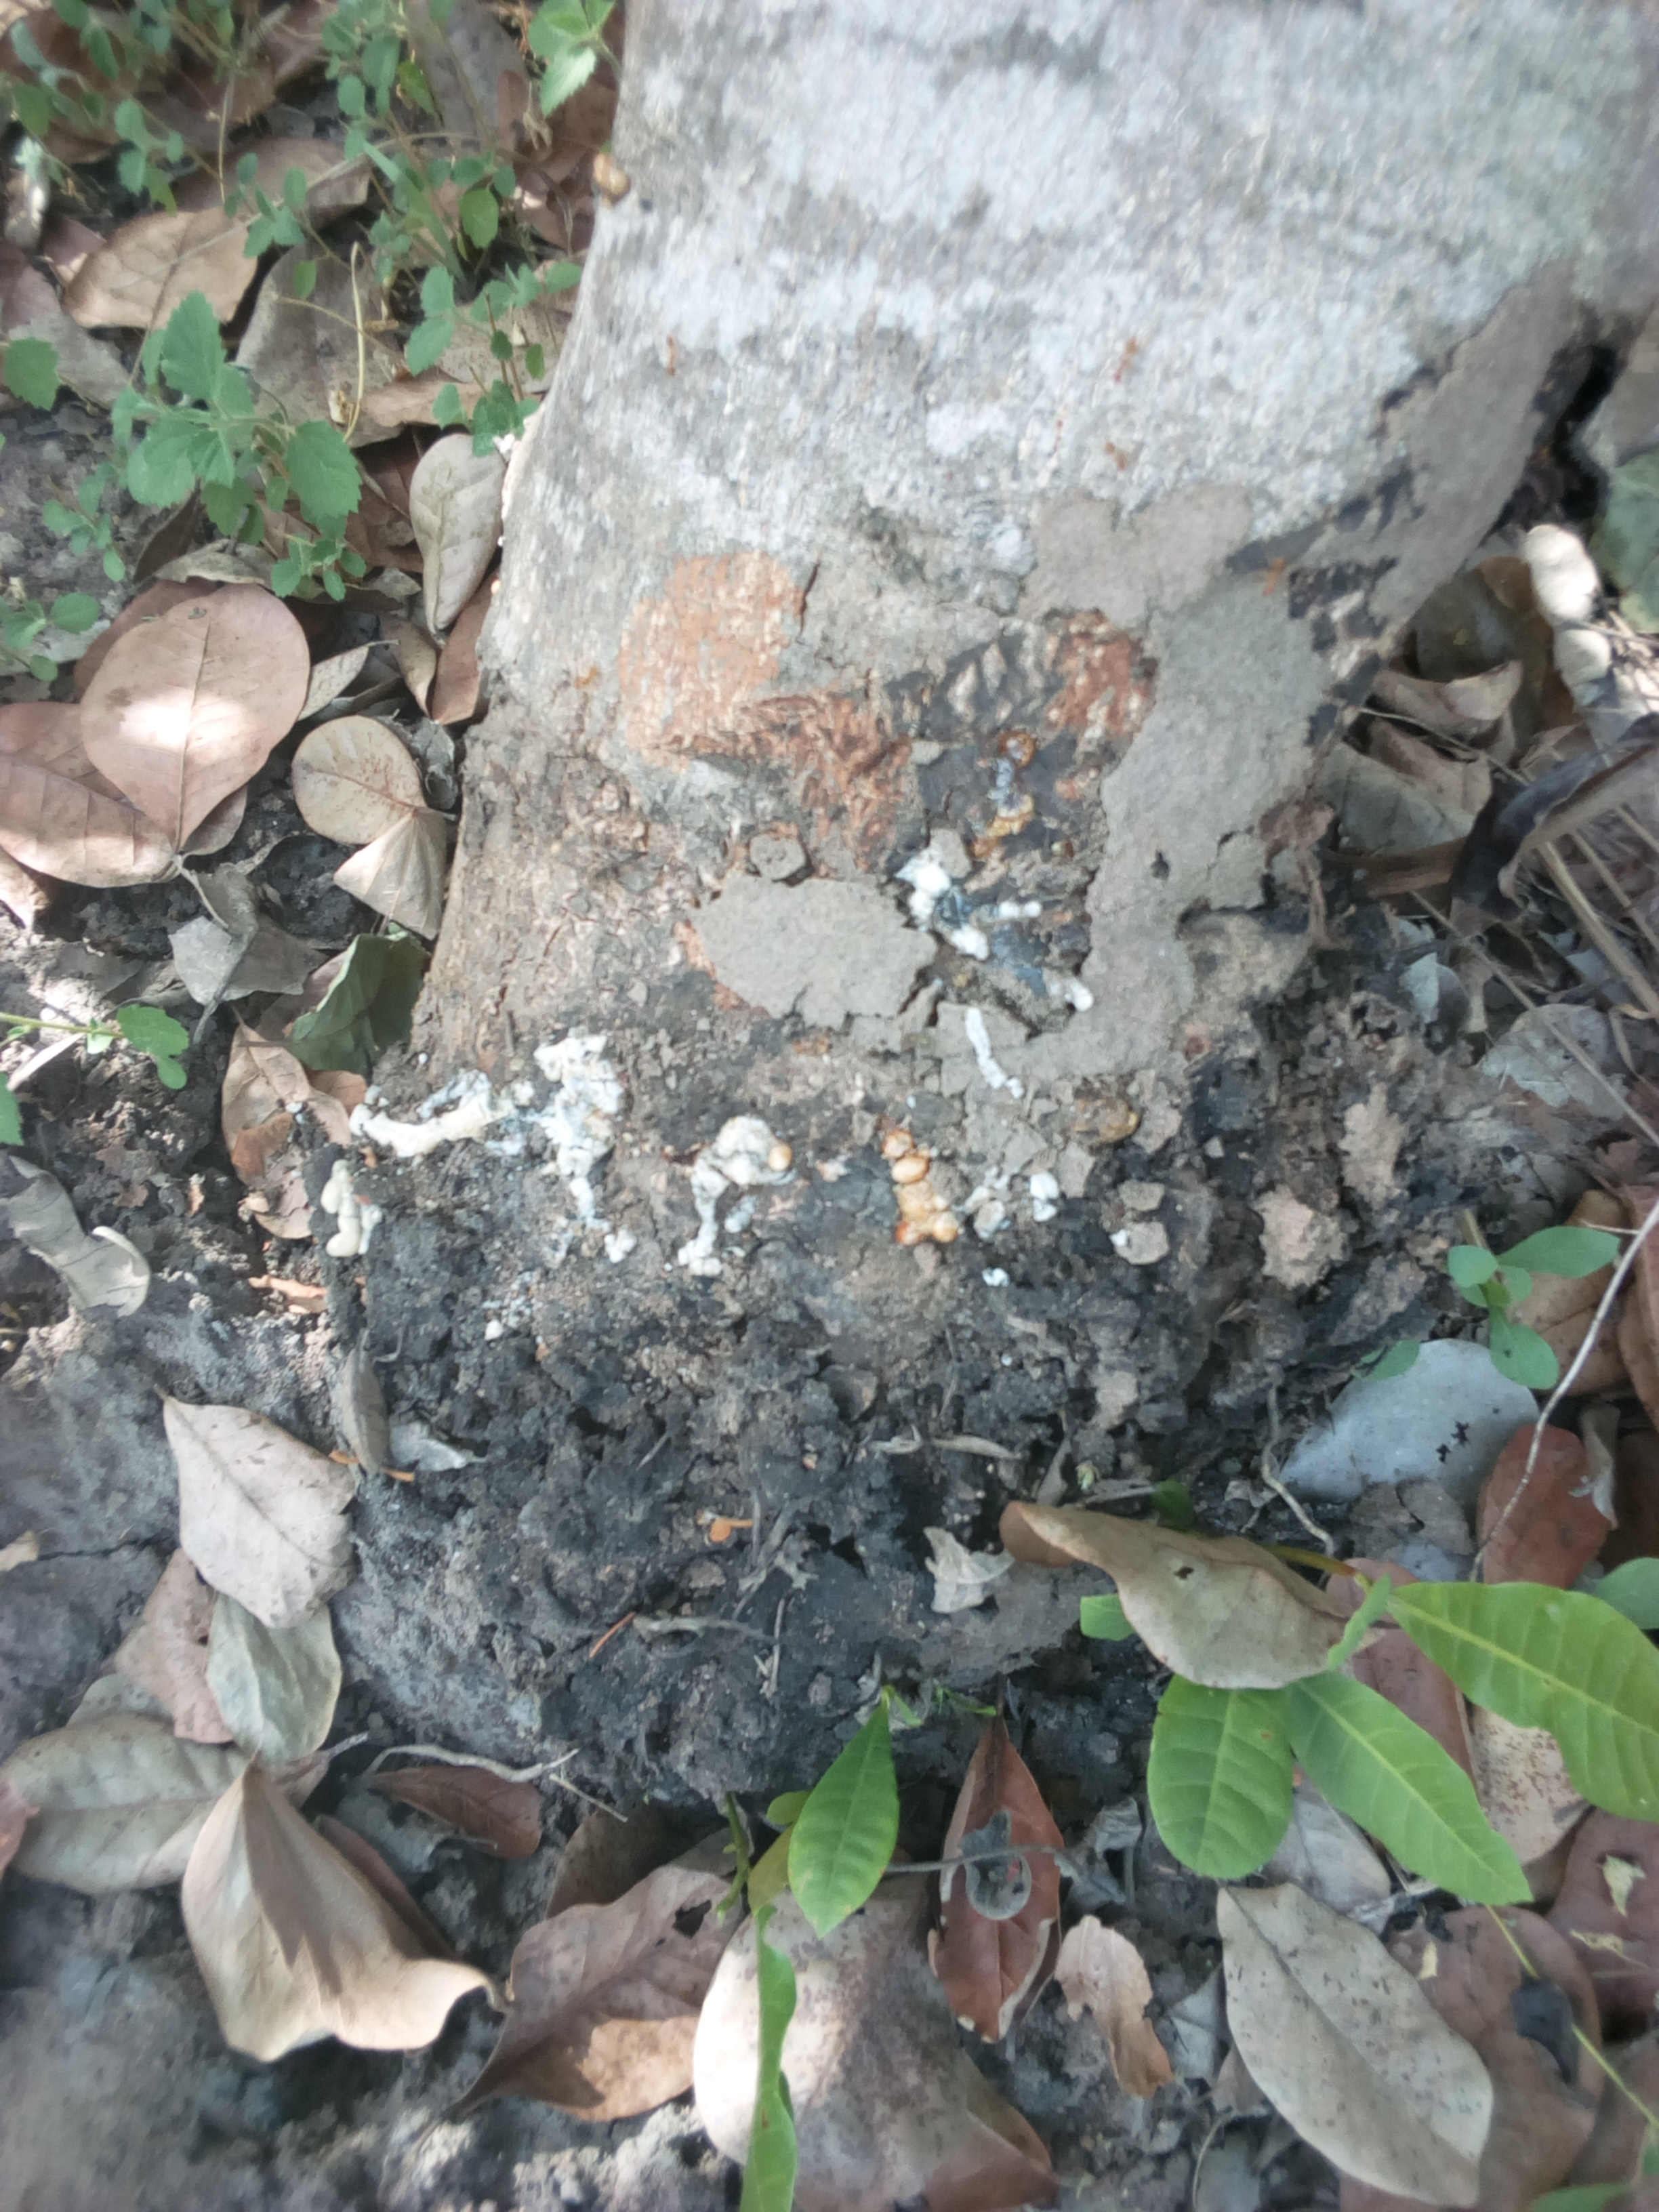Gommose: (399, 672, 1361, 1763)
